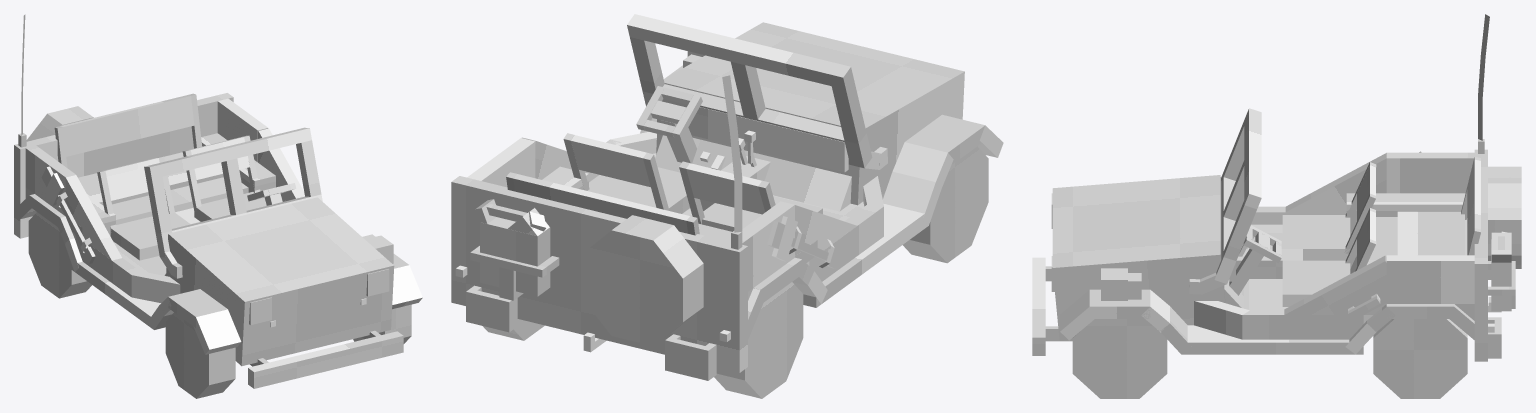
Rendered from willy_jeep.obj.
3 renders of one model, left to right at view 1: azimuth 30°, elevation 25°; view 2: azimuth 150°, elevation 25°; view 3: azimuth 270°, elevation 25°, orthographic. The views are drawn at different scales.
Visible parts, largest first — view 1: cube28, cube37, cube78, wheel_front_right, cube97, wheel_back_right, cube68, cube41, cube52, cube44, cube22, cube51 (+27 smaller); view 2: cube37, cube28, cylinder131, cube68, wheel_back_right, wheel_front_right, cube31, cube32, cube6, cube78, cube25, cube70 (+35 smaller); view 3: cube28, wheel_back_left, wheel_front_left, cube61, cube51, cube34, cube25, cube79, cube62, cube44, cylinder131, cube37 (+28 smaller).
Boxes of the visible parts, x1,y1,x2,y2 form: cube28: (166, 197, 394, 366); cube37: (14, 93, 233, 238); cube78: (60, 95, 194, 156); wheel_front_right: (165, 312, 235, 398); cube97: (248, 331, 403, 388); wheel_back_right: (28, 212, 91, 298); cube68: (144, 127, 311, 179); cube41: (112, 177, 248, 224); cube52: (65, 175, 121, 260); cube44: (110, 213, 190, 260); cube22: (193, 309, 241, 354); cube51: (25, 145, 75, 215); cube37: (451, 176, 747, 372); cube28: (656, 22, 964, 205); cylinder131: (582, 215, 703, 345); cube68: (627, 14, 853, 89); wheel_back_right: (714, 282, 803, 398); wheel_front_right: (903, 146, 988, 263); cube31: (655, 135, 851, 211); cube32: (657, 99, 848, 172); cube6: (480, 217, 550, 296); cube78: (513, 174, 689, 233); cube25: (803, 204, 928, 307); cube70: (642, 84, 872, 168); cube28: (1052, 175, 1225, 340); wheel_back_left: (1373, 319, 1467, 398); wheel_front_left: (1072, 319, 1167, 398); cube61: (1386, 255, 1474, 303); cube51: (1386, 152, 1474, 193); cube34: (1242, 309, 1363, 339); cube25: (1182, 325, 1363, 354); cube79: (1397, 211, 1464, 255); cube62: (1284, 255, 1386, 314); cube44: (1282, 215, 1350, 260); cylinder131: (1488, 166, 1521, 268); cube37: (1474, 149, 1487, 361).
Size of the model in its own units: 2.55 by 2.84 by 4.53.
